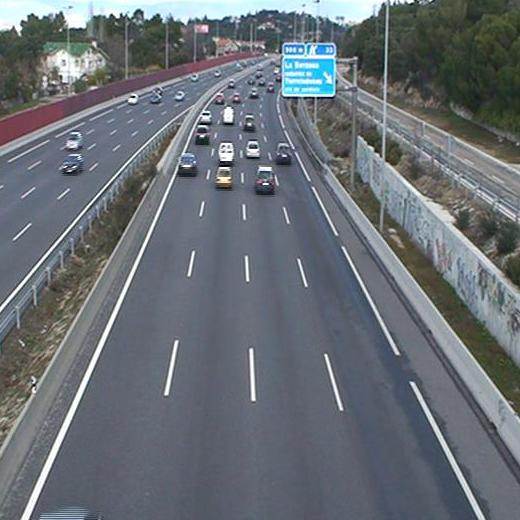car: (254, 166, 277, 190), (215, 166, 233, 187), (274, 143, 292, 161), (179, 153, 196, 172), (194, 124, 209, 143), (245, 139, 260, 157), (199, 108, 213, 122), (244, 113, 256, 127)
van: (216, 142, 237, 163), (222, 106, 234, 124)
